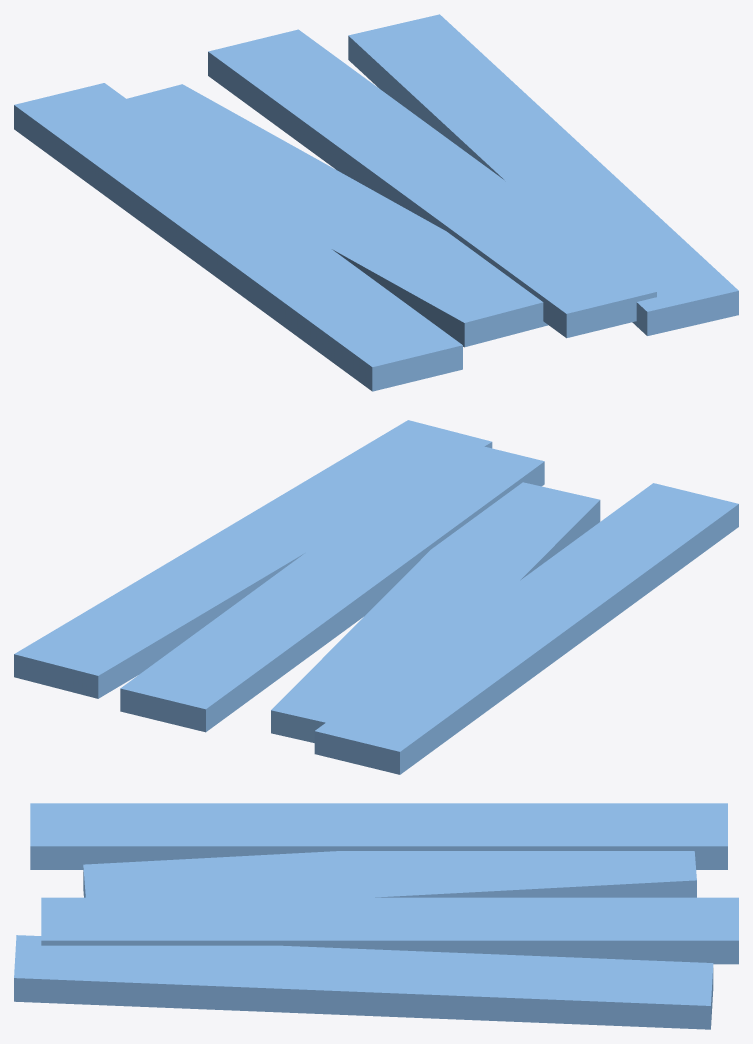
Rendered from Planks.fbx.
The picture shows the model from 3 angles, top to bottom: view 1: azimuth 30°, elevation 25°; view 2: azimuth 150°, elevation 25°; view 3: azimuth 270°, elevation 25°; orthographic projection. The views are drawn at different scales.
Parts seen in each view (by area): view 1: Plank4, Plank1, Plank3, Plank2; view 2: Plank4, Plank1, Plank3, Plank2; view 3: Plank3, Plank1, Plank4, Plank2.
Part boxes in pixels (x1,y1,x2,y2): Plank4: [14, 83, 462, 391]; Plank1: [208, 29, 656, 338]; Plank3: [348, 14, 738, 335]; Plank2: [127, 84, 548, 347]; Plank4: [314, 483, 738, 774]; Plank1: [120, 440, 544, 732]; Plank3: [14, 420, 492, 698]; Plank2: [271, 482, 600, 742]; Plank3: [14, 935, 713, 1029]; Plank1: [41, 897, 738, 964]; Plank4: [30, 803, 727, 869]; Plank2: [83, 851, 696, 897].
Bounding box in the file's own units: 480 × 32.55 × 742.
